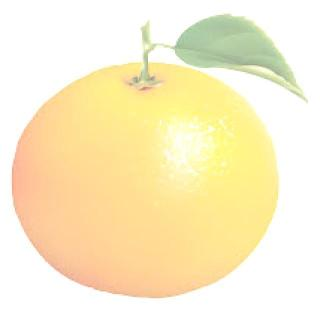orange: (3, 17, 286, 320)
